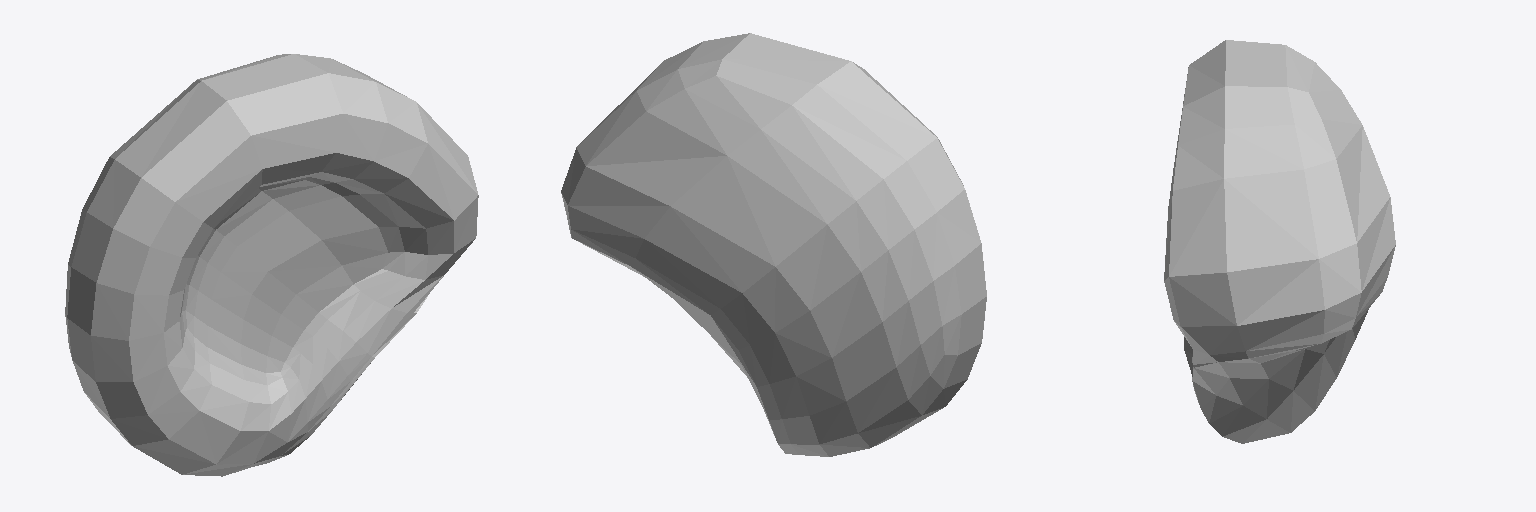
The model's file is oso-oreja-r.obj.
3 renders of one model, left to right at view 1: azimuth 30°, elevation 25°; view 2: azimuth 150°, elevation 25°; view 3: azimuth 270°, elevation 25°, orthographic.
Visible parts, largest first — view 1: Cube.006_Cube.013; view 2: Cube.006_Cube.013; view 3: Cube.006_Cube.013.
Part boxes in pixels (x1,y1,x2,y2): Cube.006_Cube.013: (65, 54, 478, 476); Cube.006_Cube.013: (561, 33, 986, 456); Cube.006_Cube.013: (1164, 40, 1395, 443).
Size of the model in its own units: 1.1 by 1.05 by 0.5763.